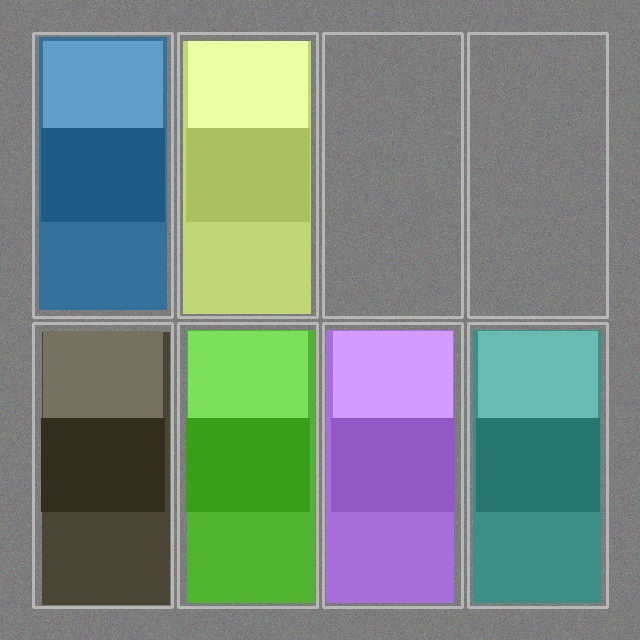space-empty: (325, 35, 460, 315), (470, 35, 605, 315)
space-occupied: (35, 35, 170, 315), (180, 35, 315, 315), (35, 325, 170, 605), (180, 325, 315, 605), (325, 325, 460, 605), (470, 325, 605, 605)
